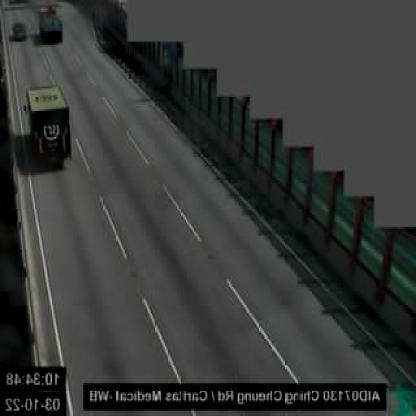Truck: (27, 85, 73, 165)
